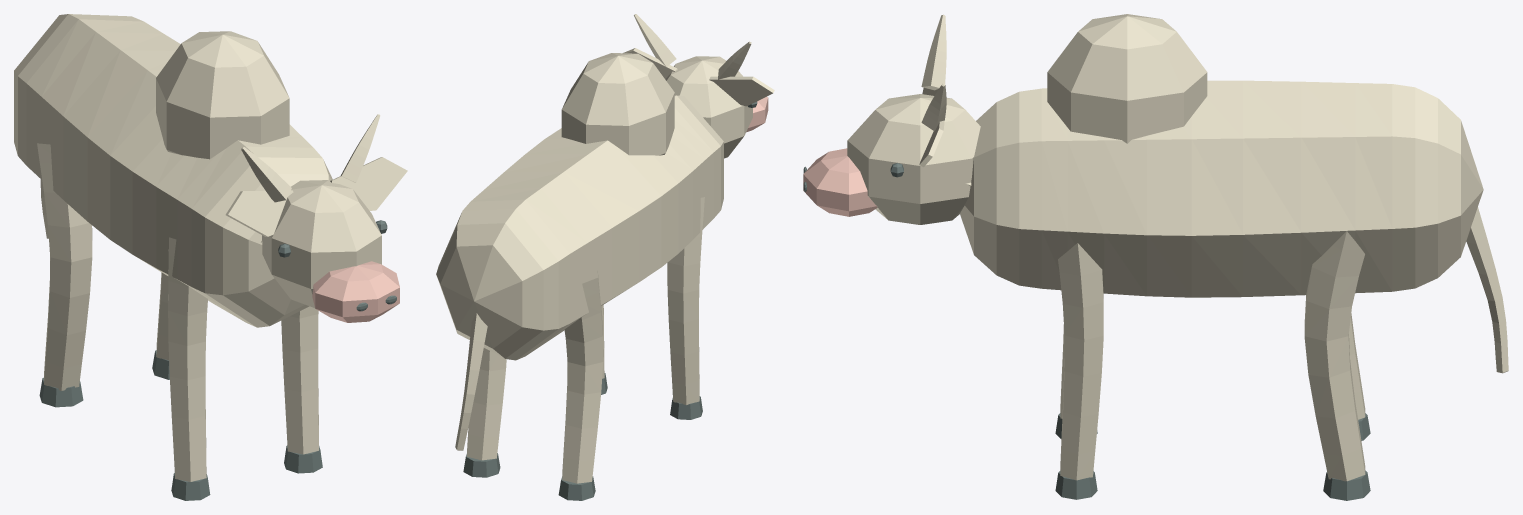
File: zebu.glb
3 renders of one model, left to right at view 1: azimuth 30°, elevation 25°; view 2: azimuth 150°, elevation 25°; view 3: azimuth 270°, elevation 25°, orthographic. The views are drawn at different scales.
Parts seen in each view (by area): view 1: zebu; view 2: zebu; view 3: zebu.
Boxes of the visible parts, <box> form: zebu: <box>14,14,407,500</box>; zebu: <box>436,14,774,500</box>; zebu: <box>803,14,1508,500</box>.
Size of the model in its own units: 0.8582 by 1.93 by 2.77.
